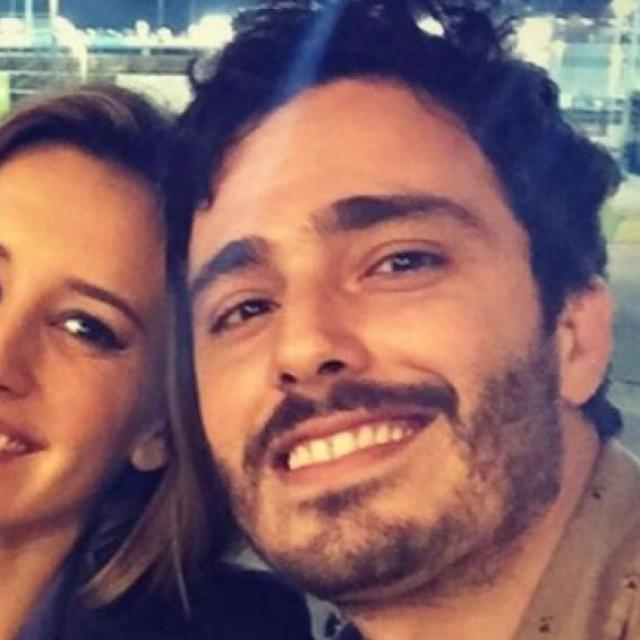Normal: (189, 73, 539, 594)
